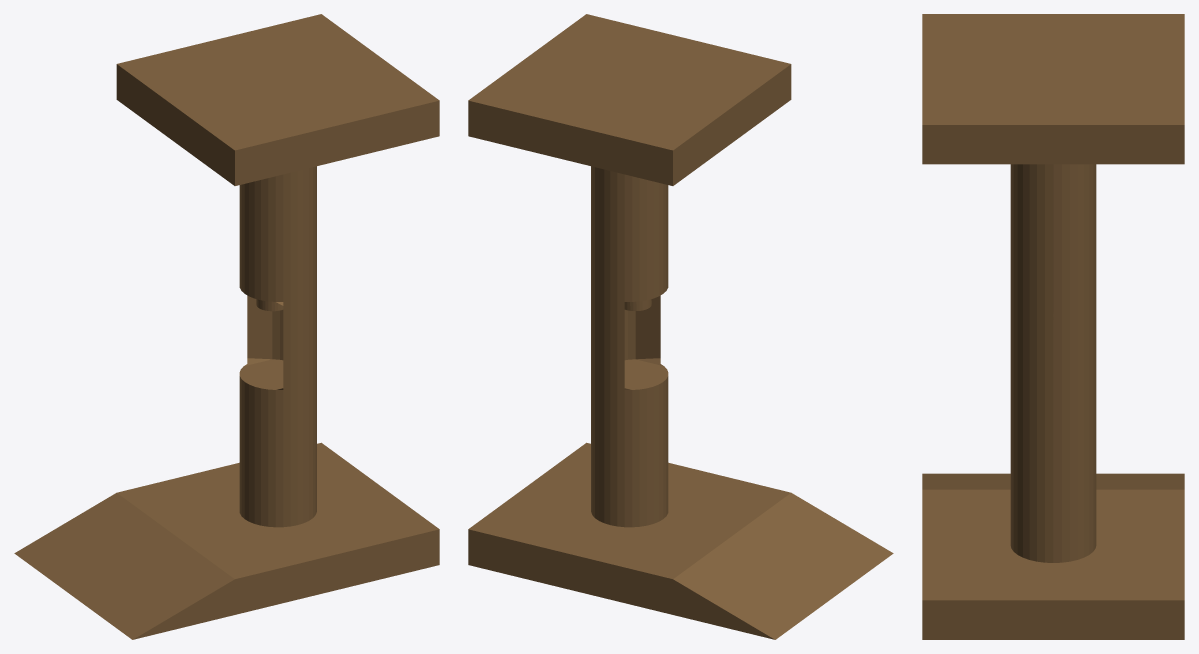
File: charginstation.fbx
The picture shows the model from 3 angles, left to right: view 1: azimuth 30°, elevation 25°; view 2: azimuth 150°, elevation 25°; view 3: azimuth 270°, elevation 25°; orthographic projection. The views are drawn at different scales.
Parts seen in each view (by area): view 1: Cube; view 2: Cube; view 3: Cube.
Boxes of the visible parts, x1,y1,x2,y2 form: Cube: (14,14,439,639); Cube: (468,14,893,639); Cube: (922,14,1184,639).
Bounding box in the file's own units: 1548 × 2236 × 1032.
